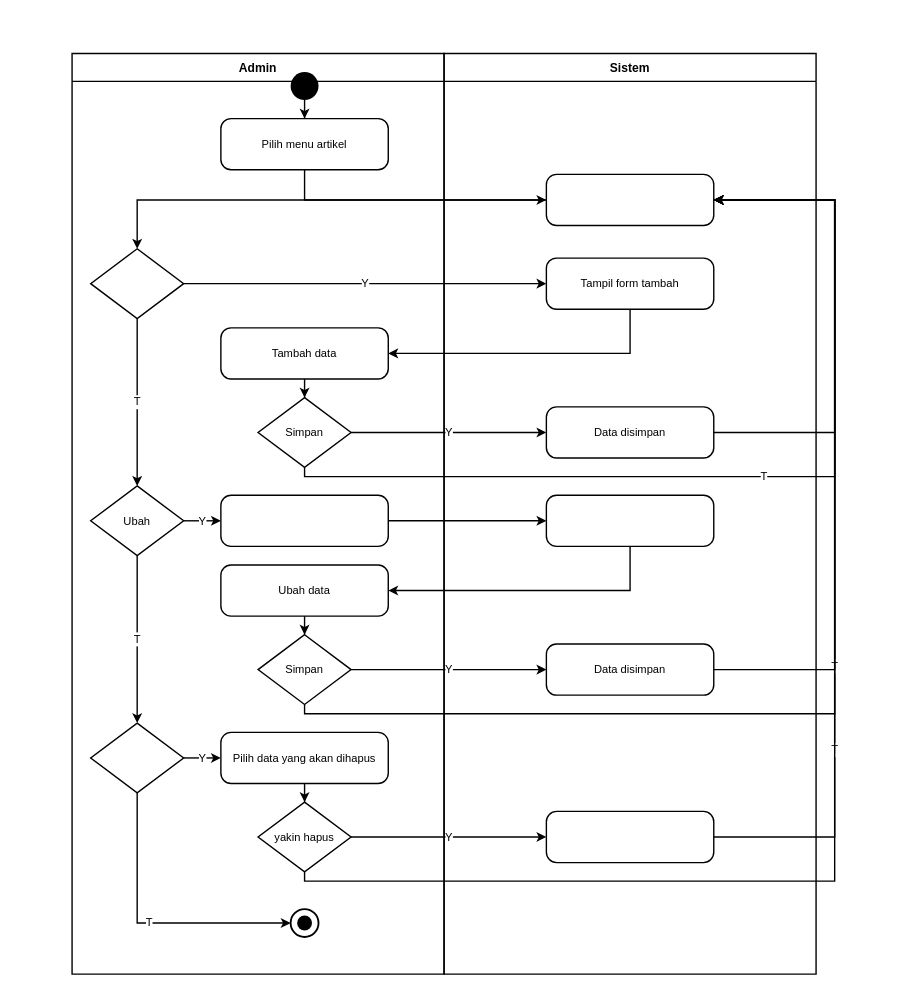
This 915x1008 diagram has some shape labels left out. The centre of each missing label's shape, as x and y in pixels:
"Data dihapus" goes at point 629,836.
"Hapus" goes at point 137,757.
"Pilih data yang diubah" goes at point 304,520.
"Tambah" goes at point 137,283.
"Tampil data artikel" goes at point 629,199.
"Tampil form ubah" goes at point 629,520.
